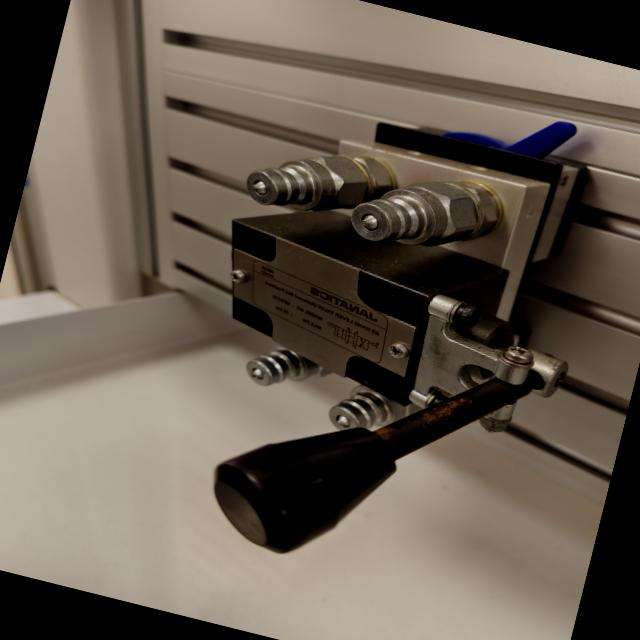4by3 hand lever valve: (145, 37, 631, 614)
